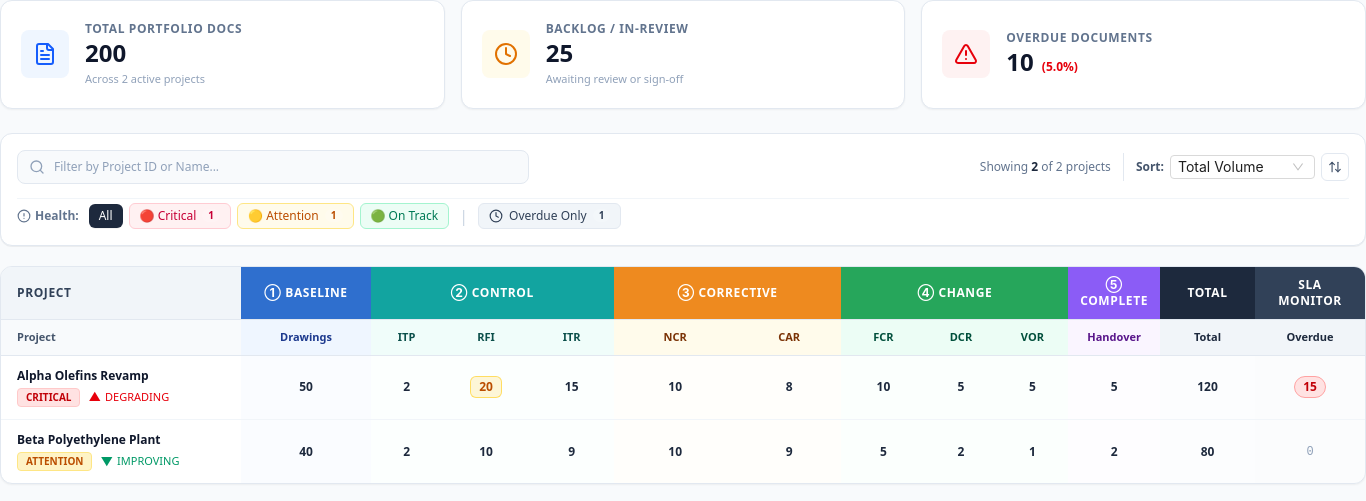
Test case: OverviewTab Component - Search Filtering › filters project rows when searching by project ID
The width and height of the screenshot is (1366, 501).
In the field with placeholder "Filter by Project ID or Name...": coordinates (273, 166) [17,150,529,184], type "PRJ-02"
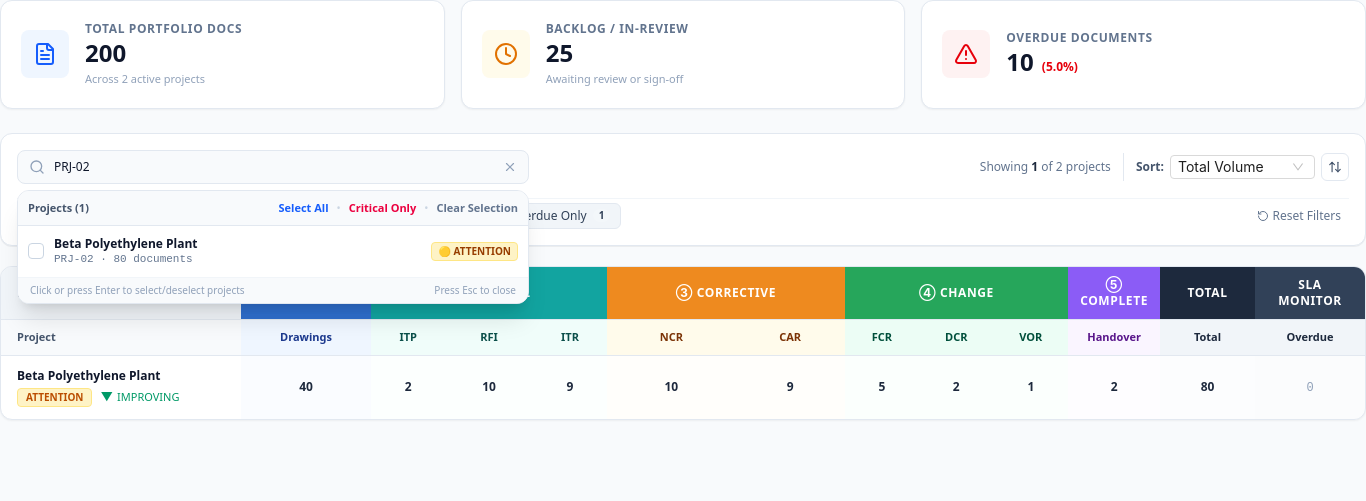
Expected: the row with test id "project-matrix-row-PRJ-02" is shown, [1,355,1365,418]
Expected: the text "Showing 1 of 2 projects" is shown, [980,158,1111,174]
Expected: the row with test id "project-matrix-row-PRJ-01" is gone
